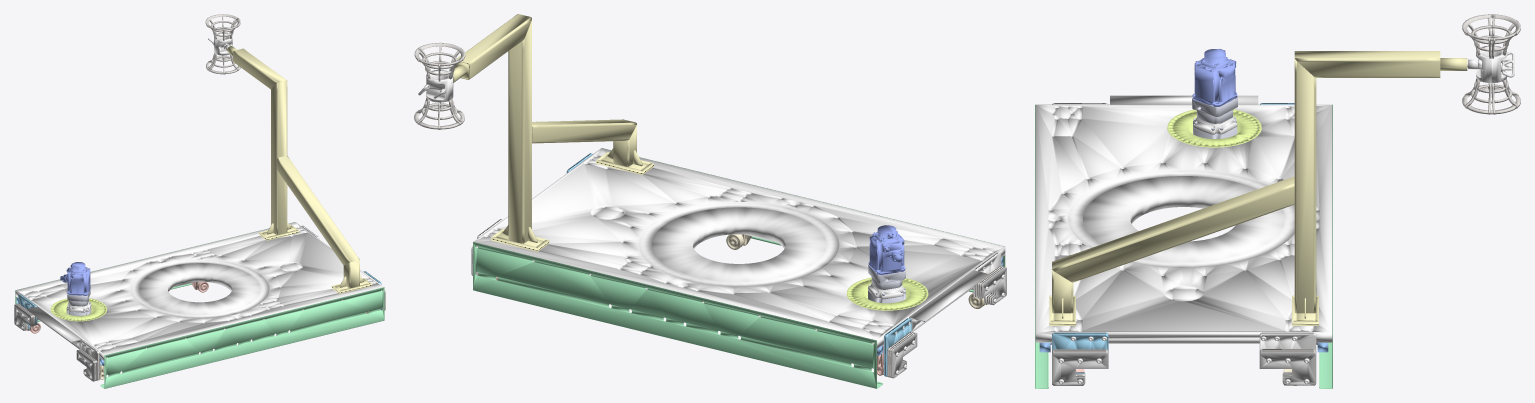
The model's file is TJA_01_X_CARRIAGE.glb.
The picture shows the model from 3 angles, left to right: view 1: azimuth 30°, elevation 25°; view 2: azimuth 150°, elevation 25°; view 3: azimuth 270°, elevation 25°; orthographic projection. The views are drawn at different scales.
Bounding box in the file's own units: 2.13 × 1.4 × 1.8.
1 material, 1 textured.
